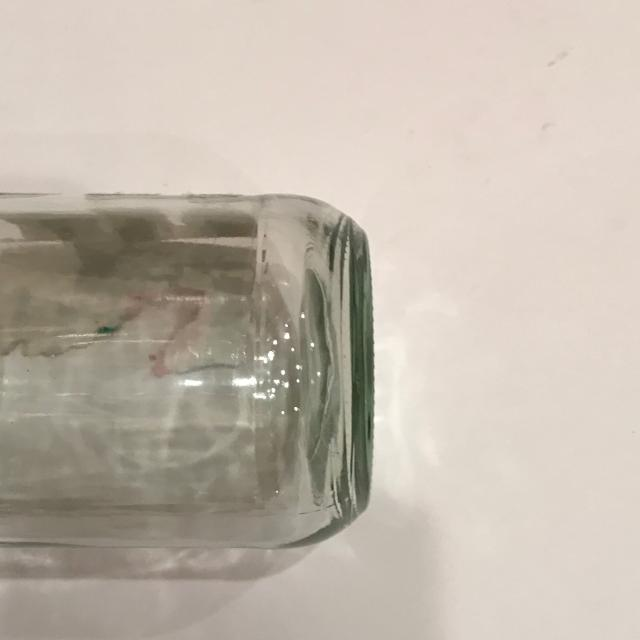Glass: (0, 176, 383, 572)
